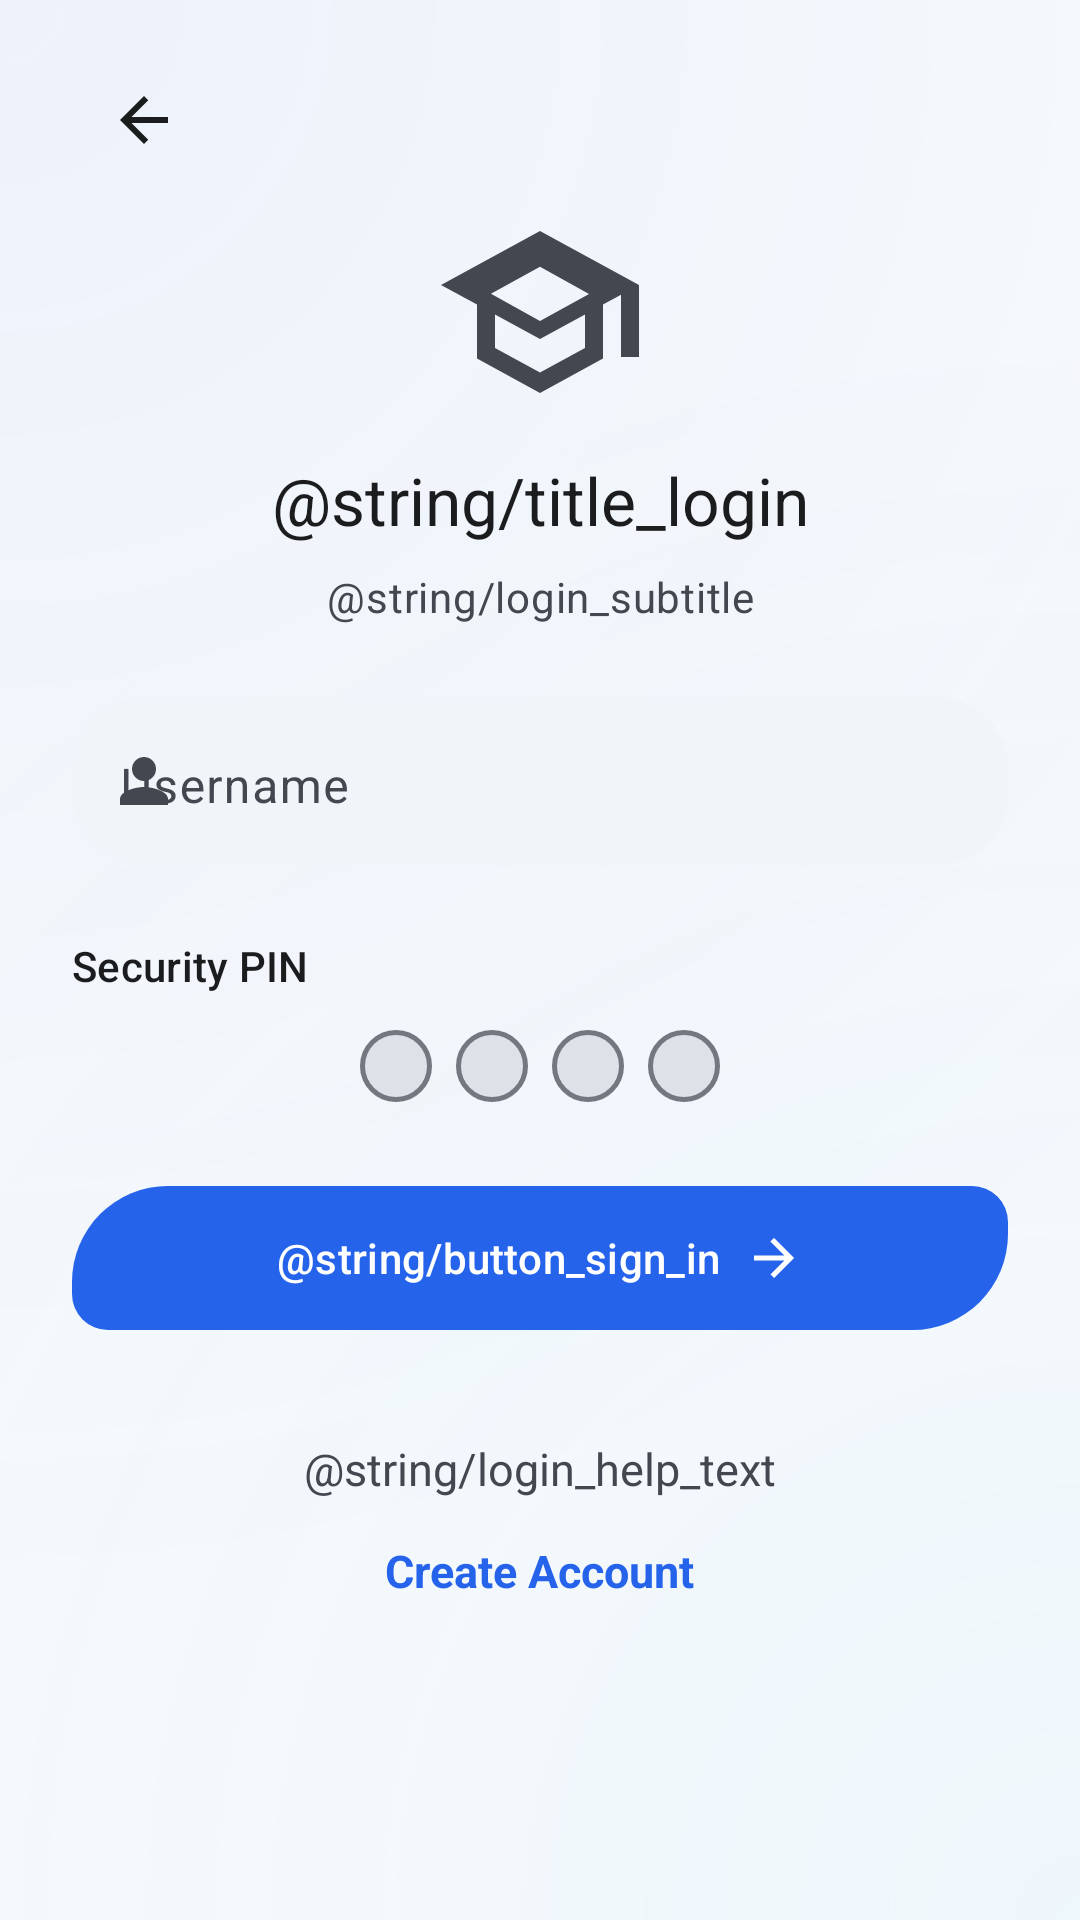

Icon bounding boxes for this 1080px×1920px phone screenshot, format (x1, y1, x2, y2):
Back: (120, 96, 168, 144)
